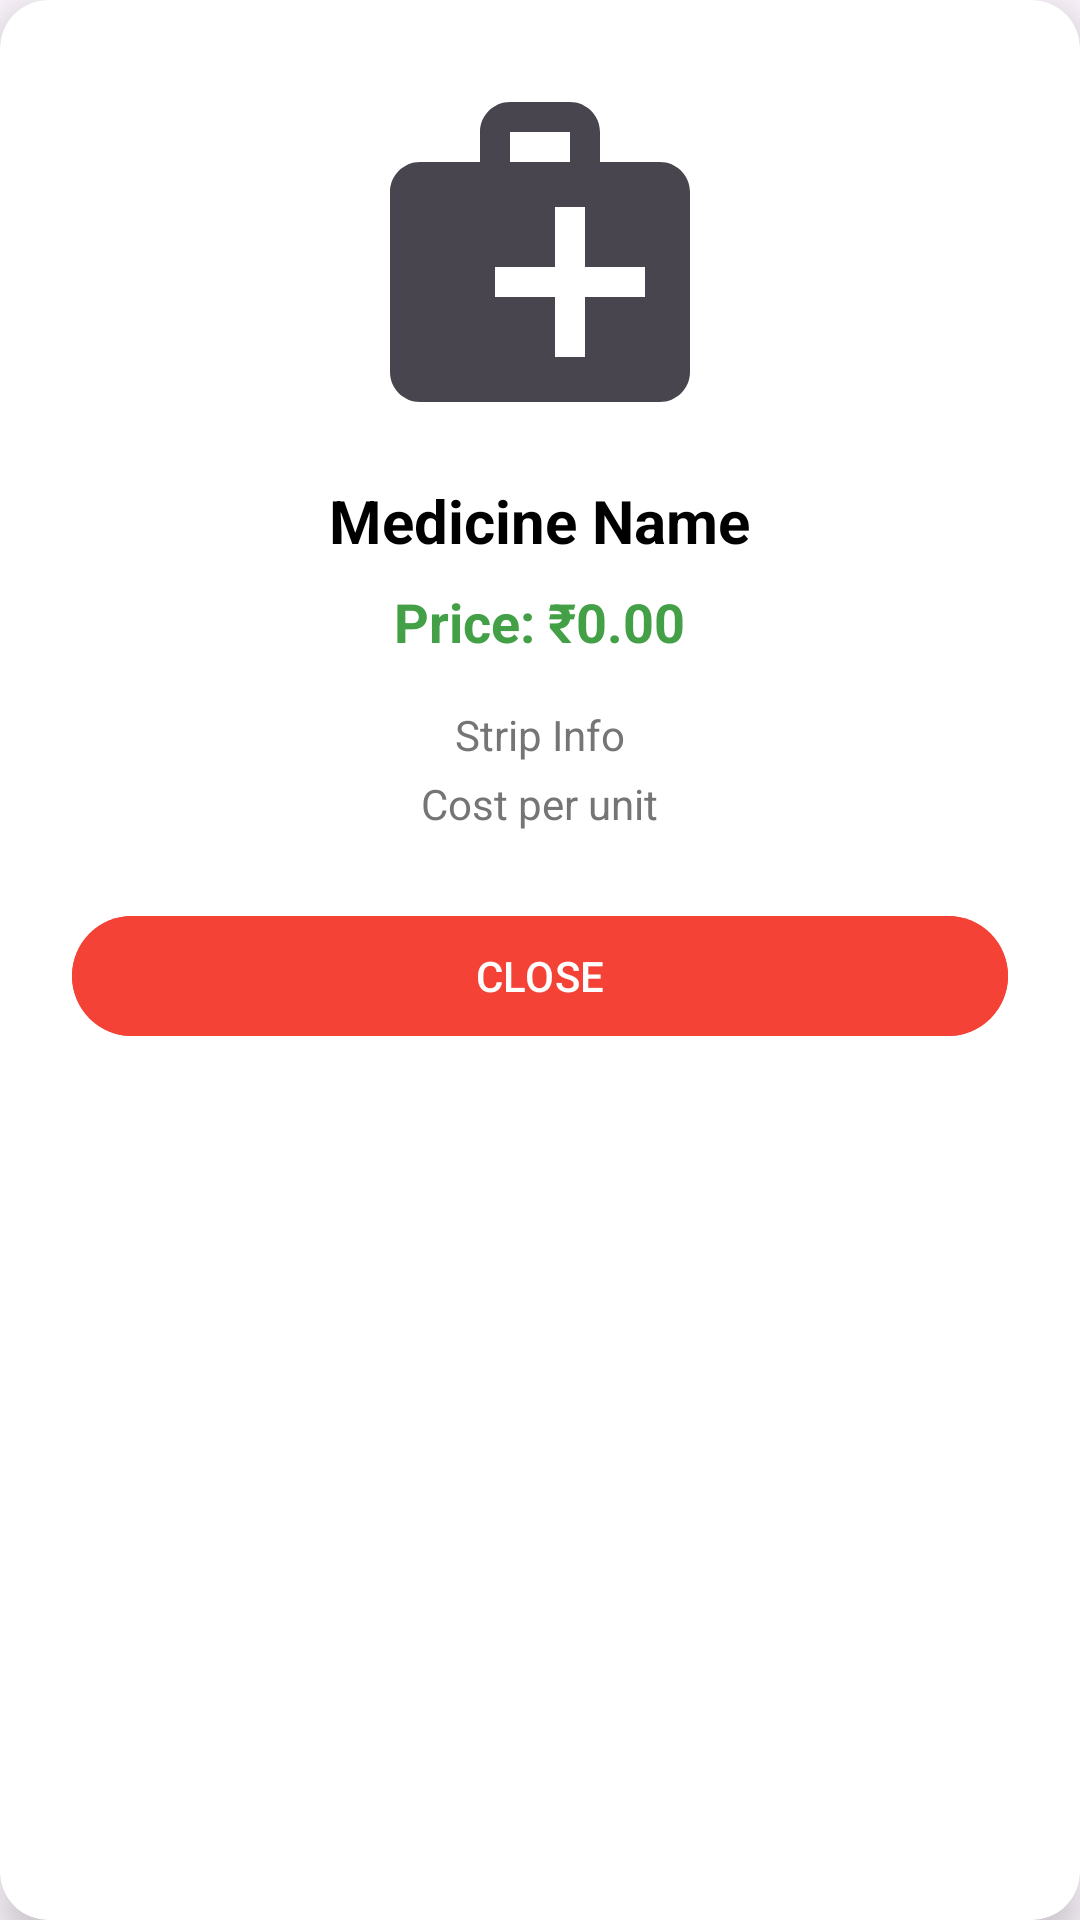

Icon bounding boxes for this 1080w x 1920h phone screenshot, format (x1, y1, x2, y2):
medical: (390, 102, 690, 402)
